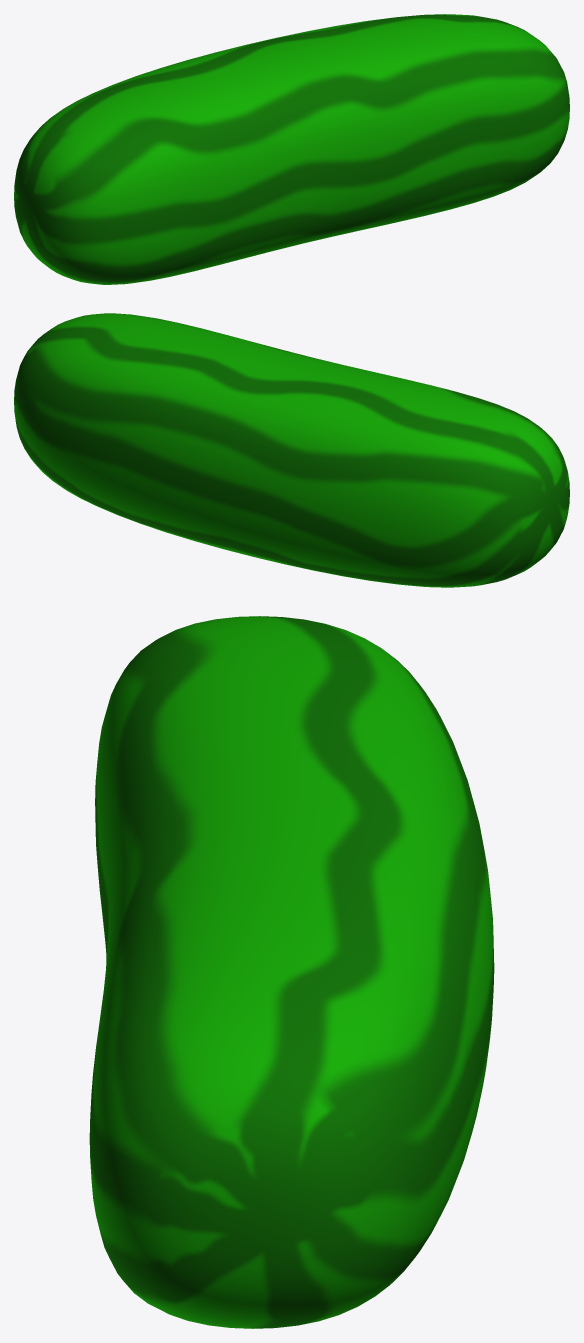
File: Timun.fbx
3 views of the same model, one above another, from view 1: azimuth 30°, elevation 25°; view 2: azimuth 150°, elevation 25°; view 3: azimuth 270°, elevation 25° (orthographic). The views are drawn at different scales.
Parts seen in each view (by area): view 1: timun; view 2: timun; view 3: timun.
Part boxes in pixels (x1,y1,x2,y2): timun: (14,14,569,284); timun: (14,313,569,587); timun: (89,616,494,1328).
Bounding box in the file's own units: 41.88 × 13.42 × 14.01.
Materials: 1 (1 with a texture image).
